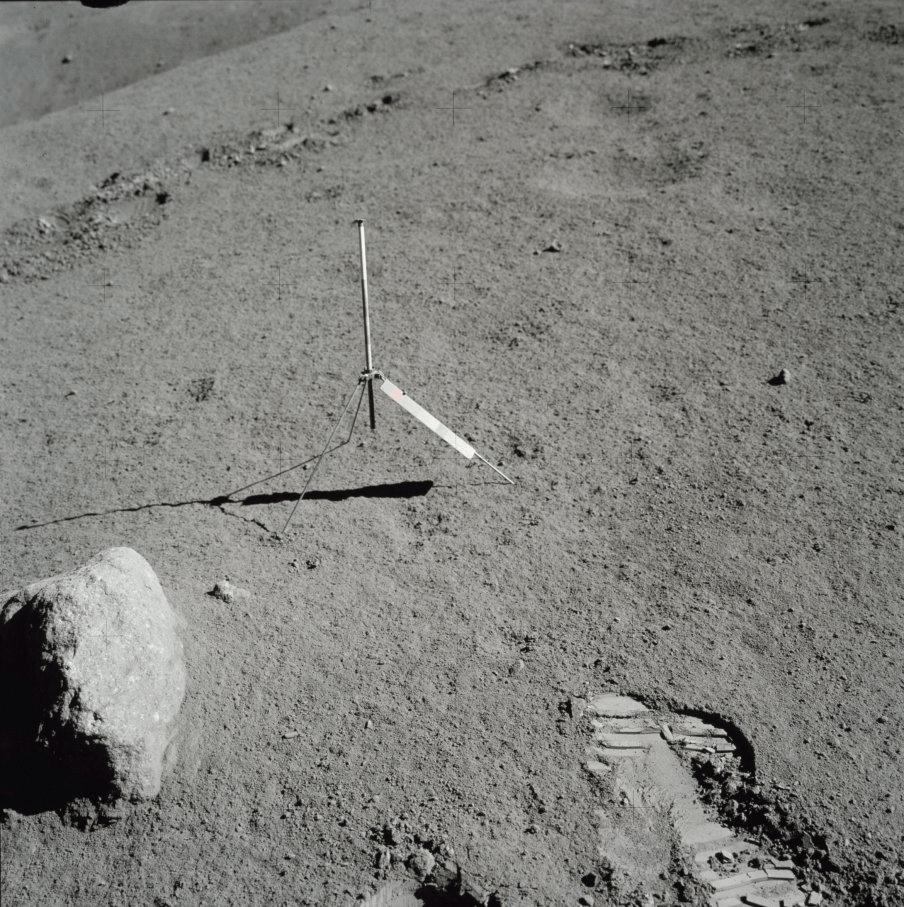rock: (0, 547, 186, 824)
